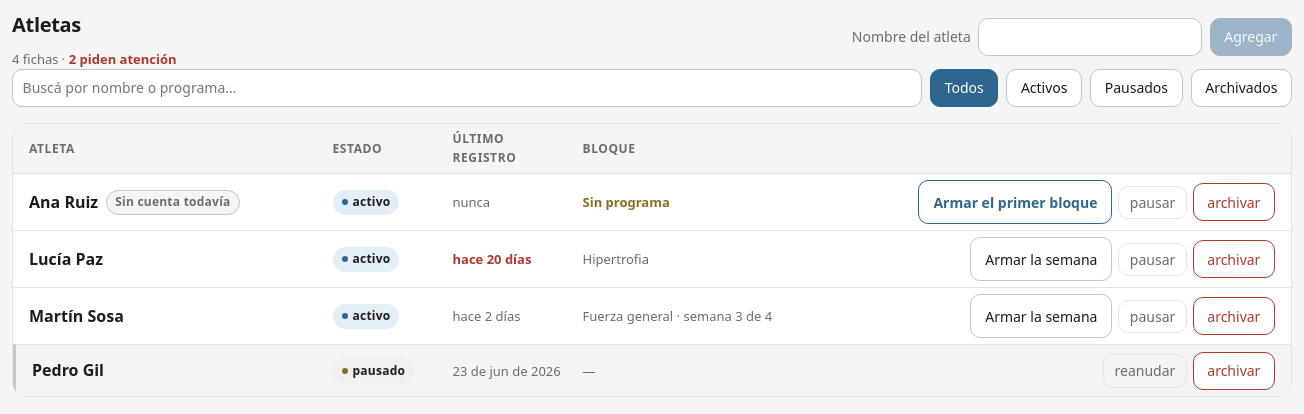
Test: buscar y filtrar › busca por nombre, sin acentos
expect the link "Martín Sosa" is shown: met, box [29, 304, 124, 329]
Type "martin" into the search field named "Buscar atletas" at (467, 88), box [12, 69, 922, 107]
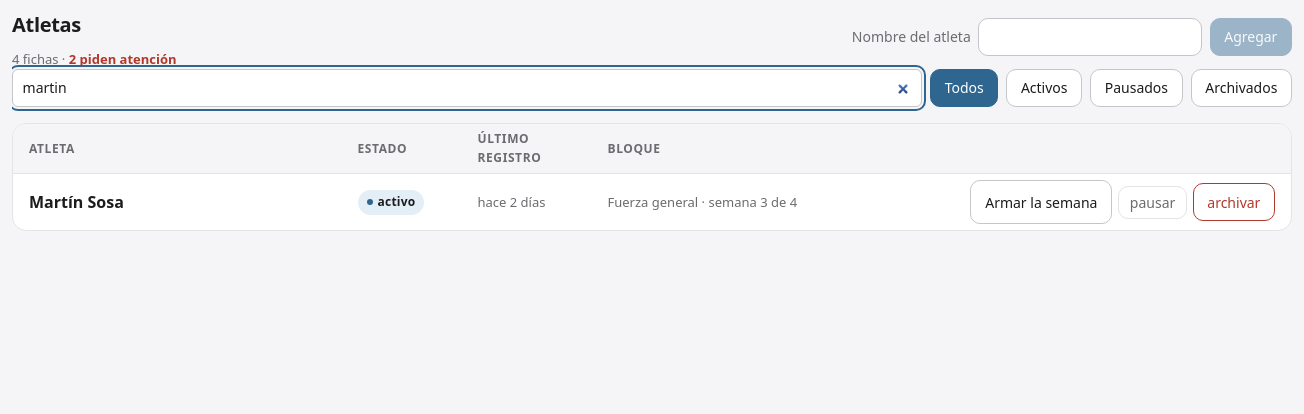
expect the link "Martín Sosa" is shown: met, box [29, 190, 124, 215]
expect the link "Lucía Paz" is gone: met
